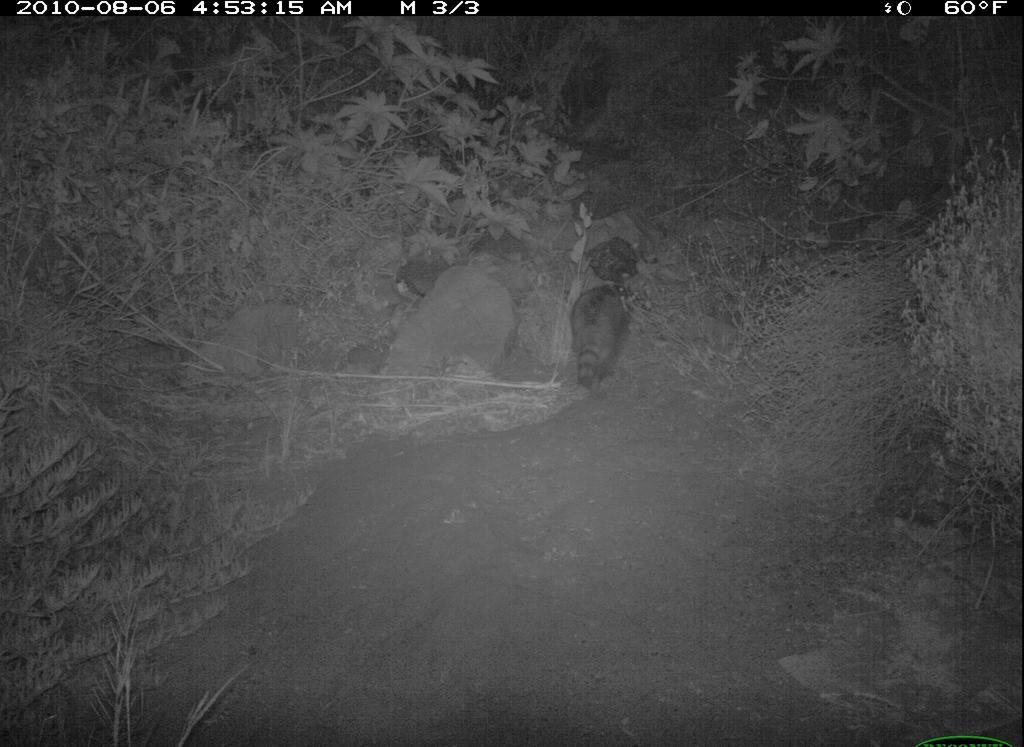raccoon: (565, 278, 635, 400)
